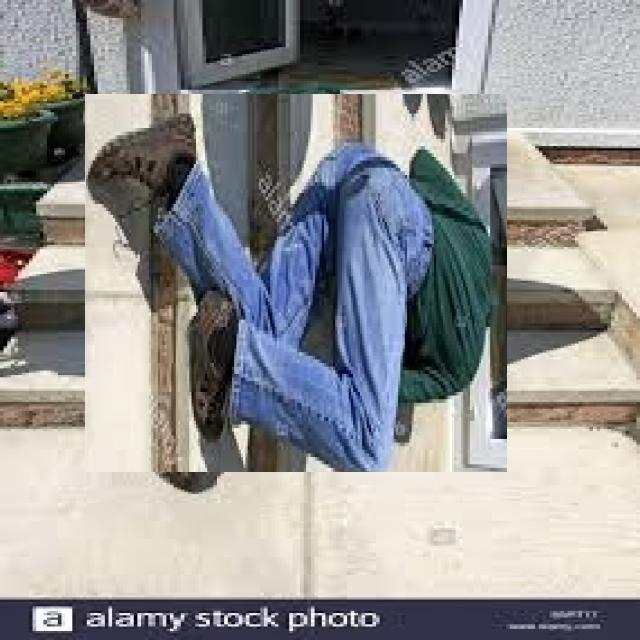Fall: (85, 99, 512, 443)
